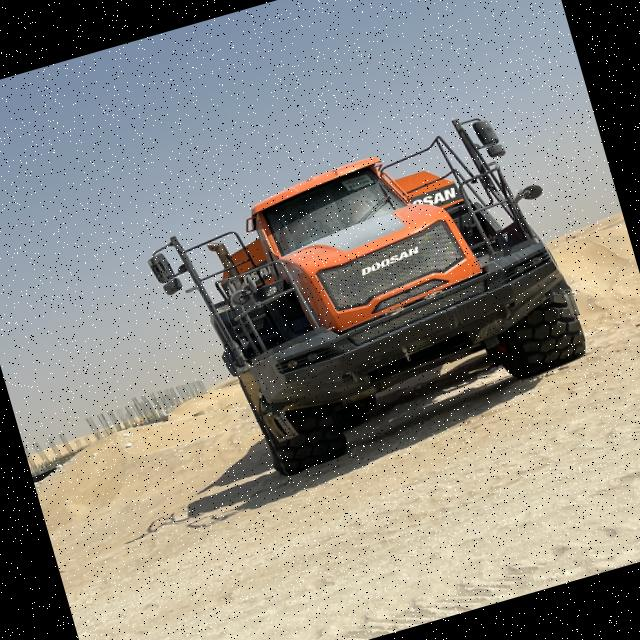Dump Truck: (128, 90, 602, 503)
